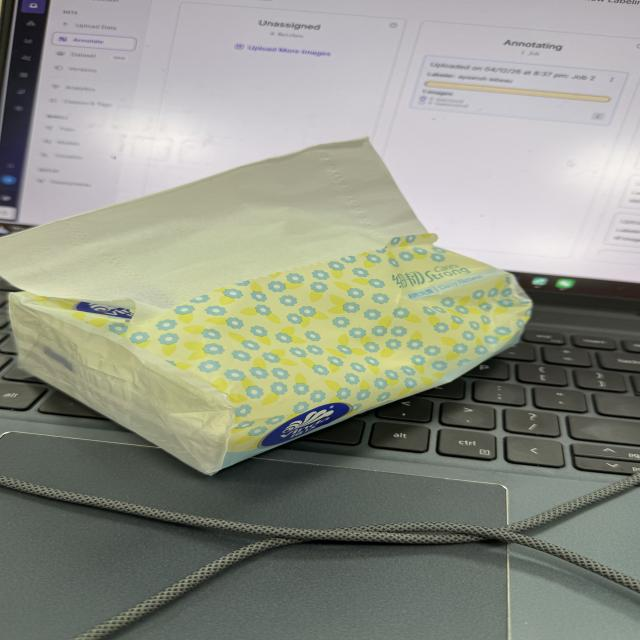tissue: (0, 140, 537, 471)
